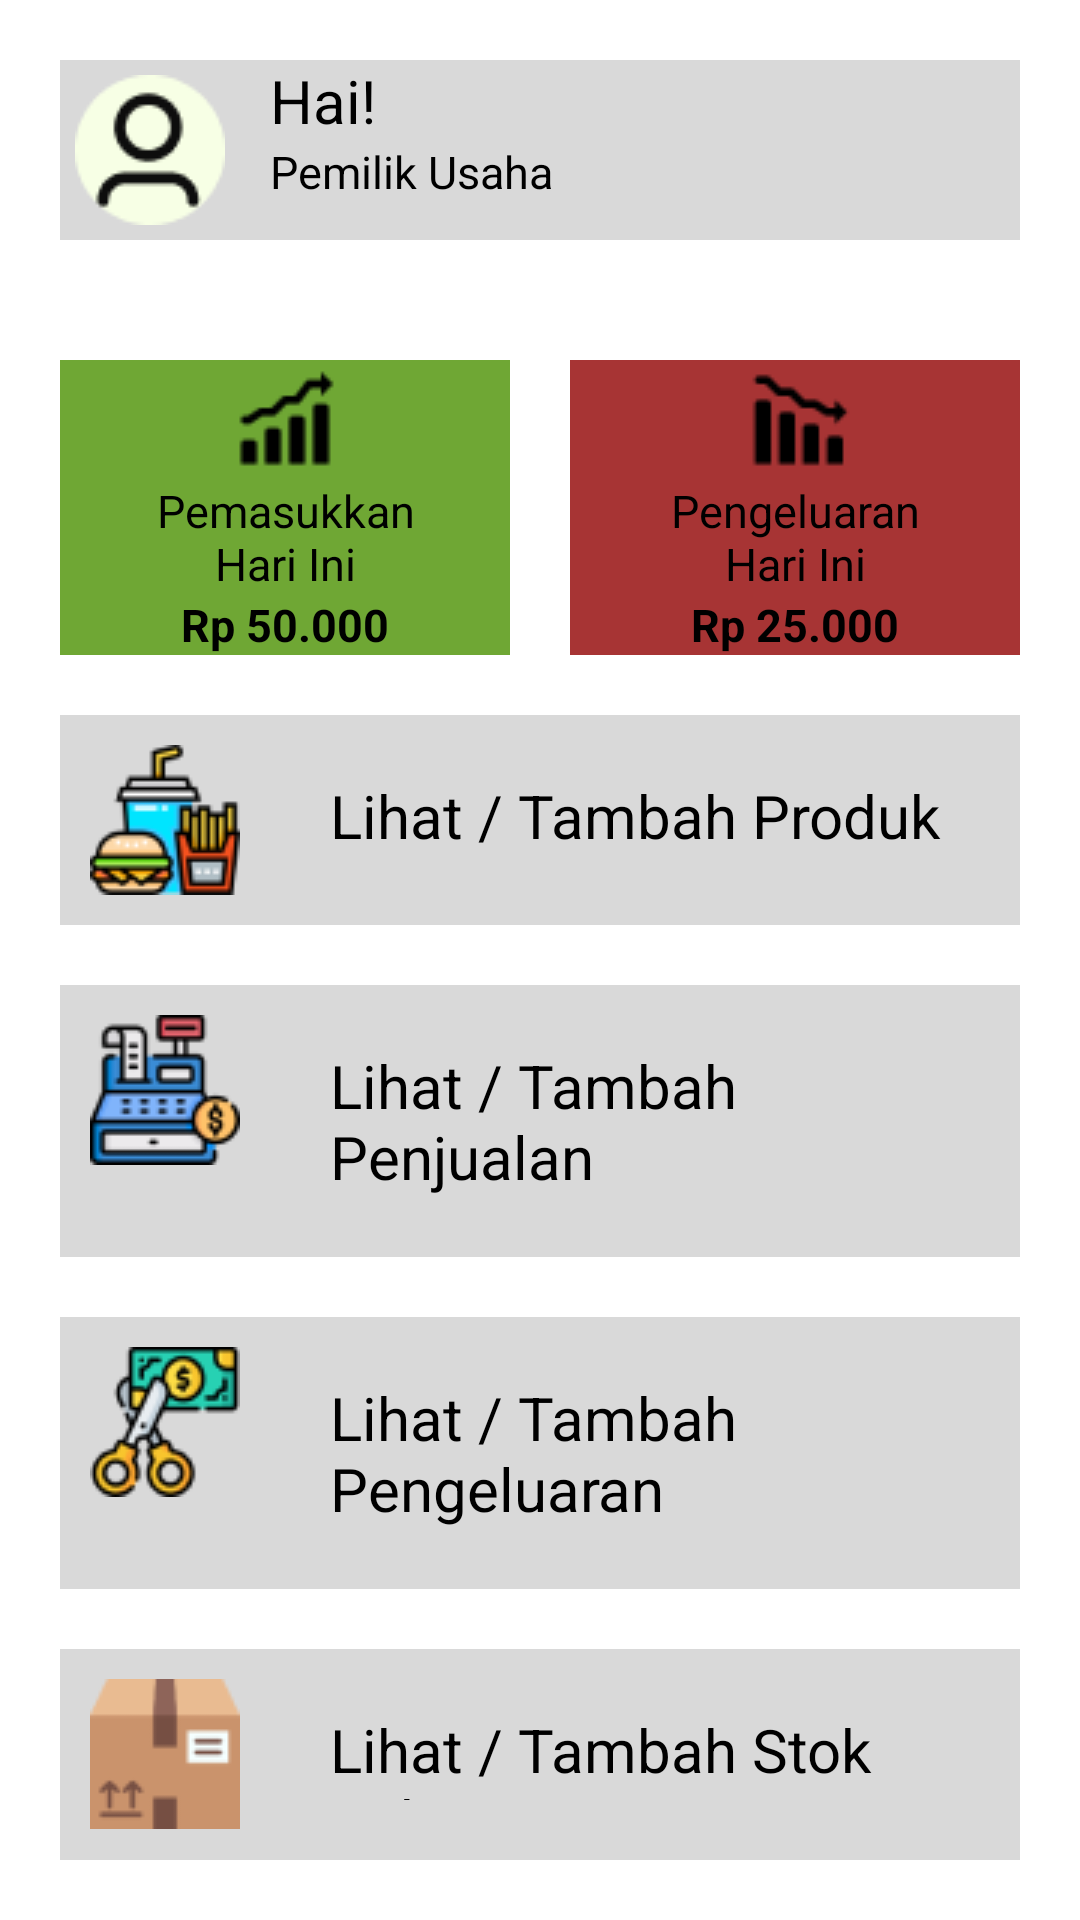

Point at icon controls on the screen. Image size 1080px x 1920px, points as point (x, y).
fastfood: point (165, 820)
grafiknaik: point (286, 418)
grafikturun: point (800, 420)
mesinkasir: point (165, 1090)
person: point (150, 150)
